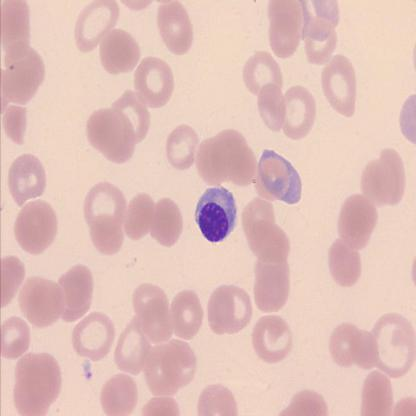NRC: (194, 184, 238, 244)
